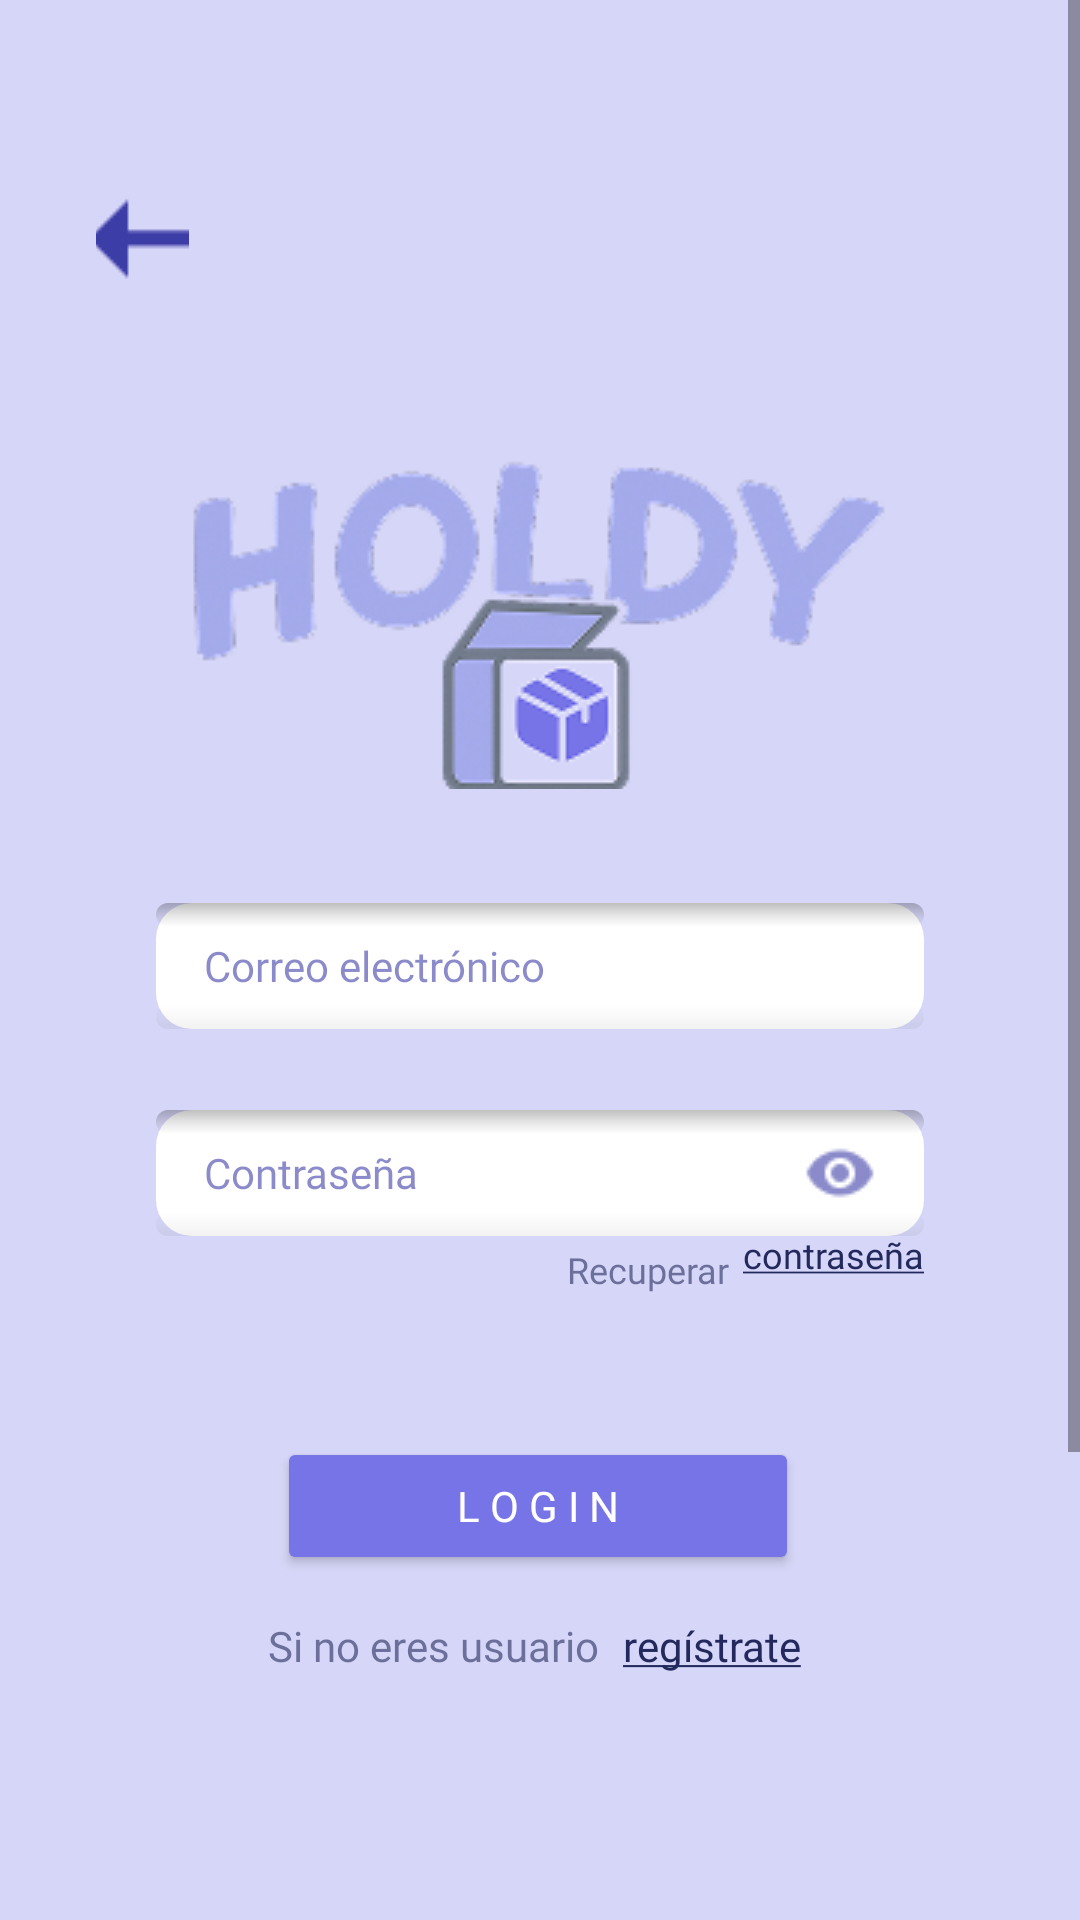

Screen size 1080x1920. Icon name, then its center in pixels as (x=x, y=y):
Volver: (x=142, y=238)
